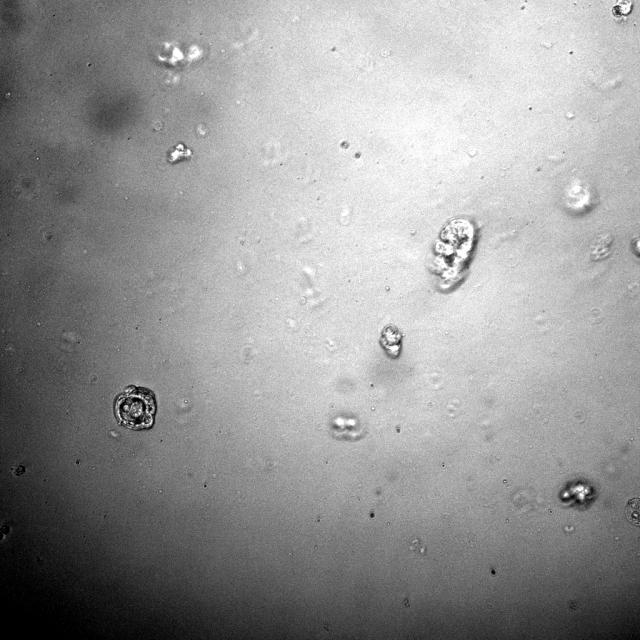organoid: (430, 217, 478, 292), (113, 385, 157, 430), (559, 478, 596, 508), (379, 324, 402, 358), (166, 142, 193, 164), (611, 0, 633, 23), (625, 497, 639, 526)
